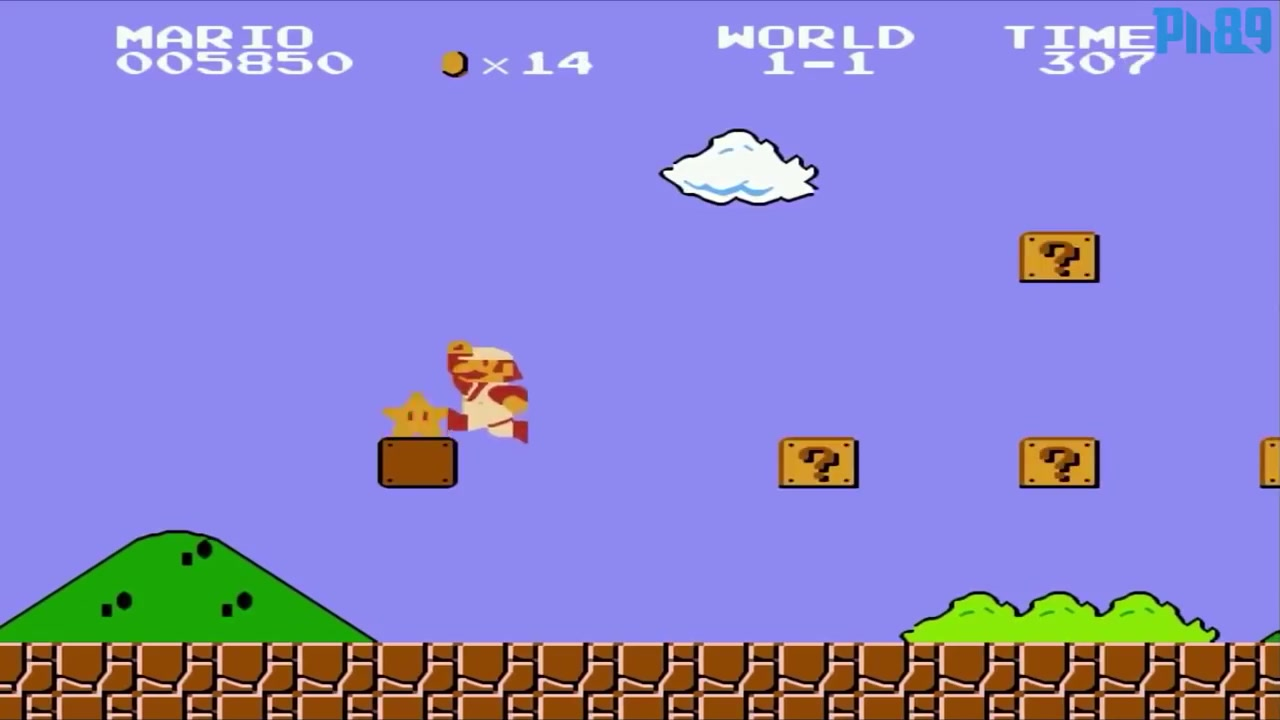mario: (434, 325, 536, 454)
